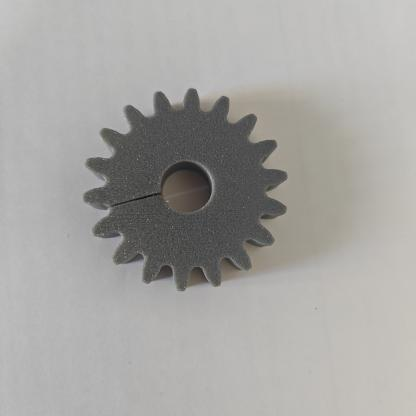defect: (77, 178, 191, 241)
gear: (56, 74, 289, 302)
